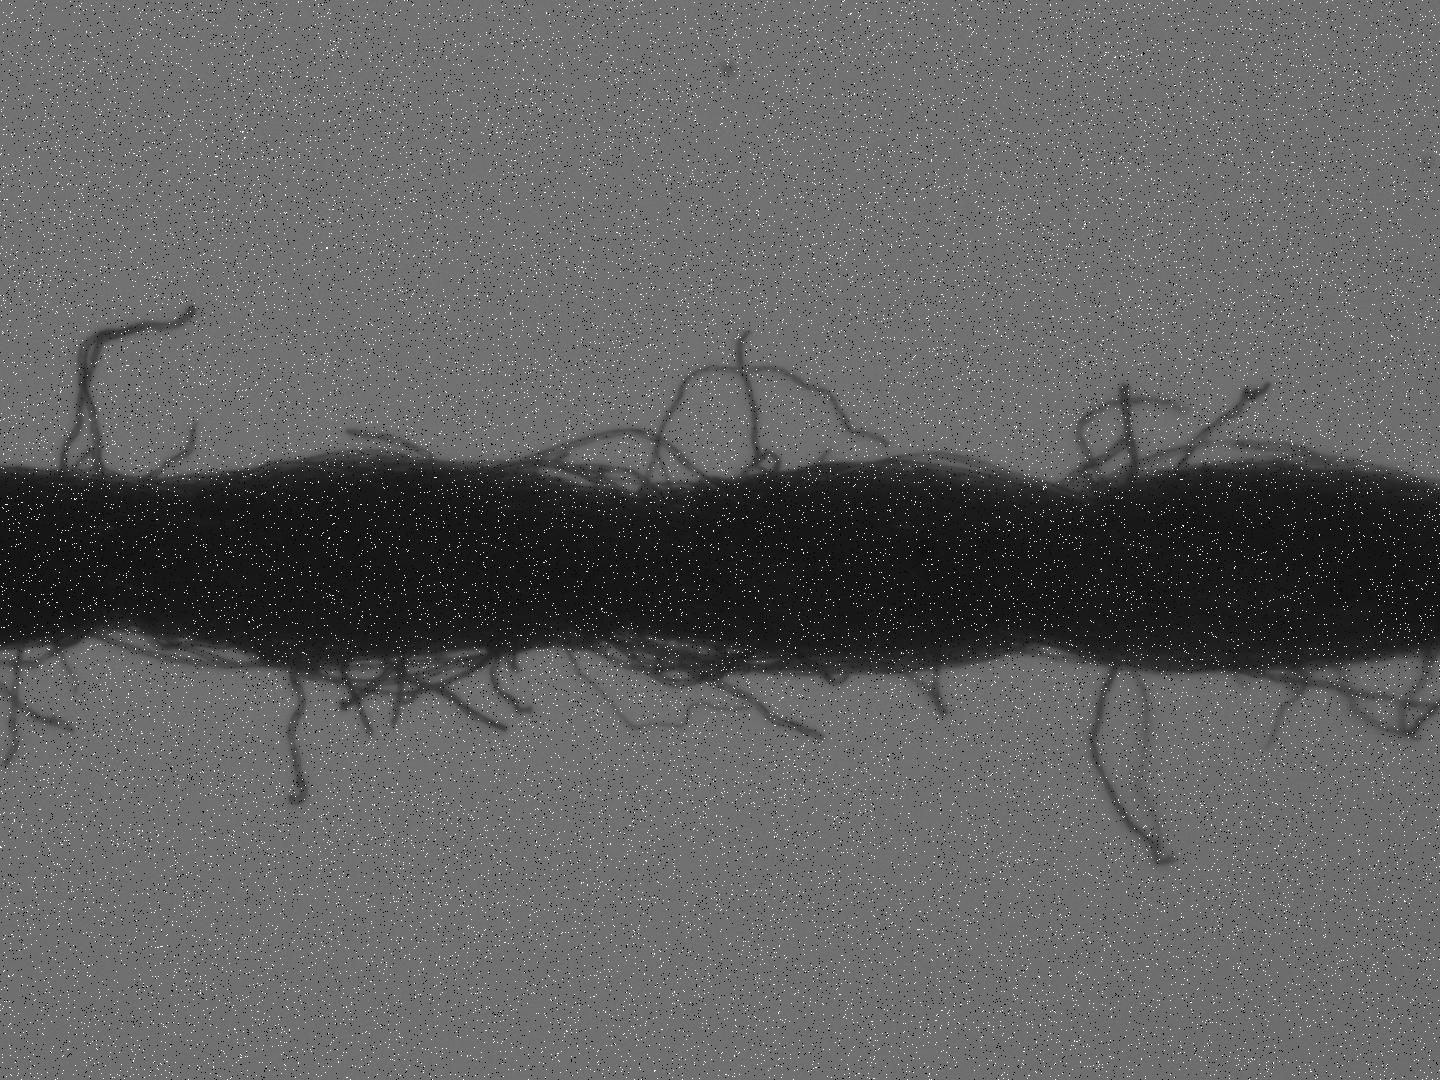loop_fiber: (463, 420, 745, 507), (1085, 436, 1391, 515), (229, 635, 534, 704), (577, 621, 783, 692), (1321, 640, 1437, 744), (832, 448, 1076, 492), (879, 655, 950, 720), (128, 626, 212, 659), (738, 448, 787, 500)
protruding_fiber: (735, 323, 772, 481), (1109, 379, 1147, 490), (277, 674, 307, 809)
